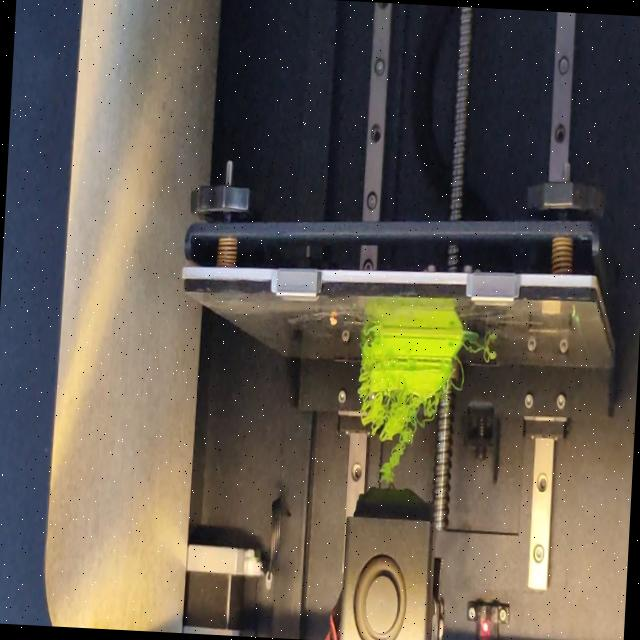spaghetti: (352, 387, 440, 490), (466, 344, 498, 362), (452, 357, 465, 398), (362, 320, 376, 341)
